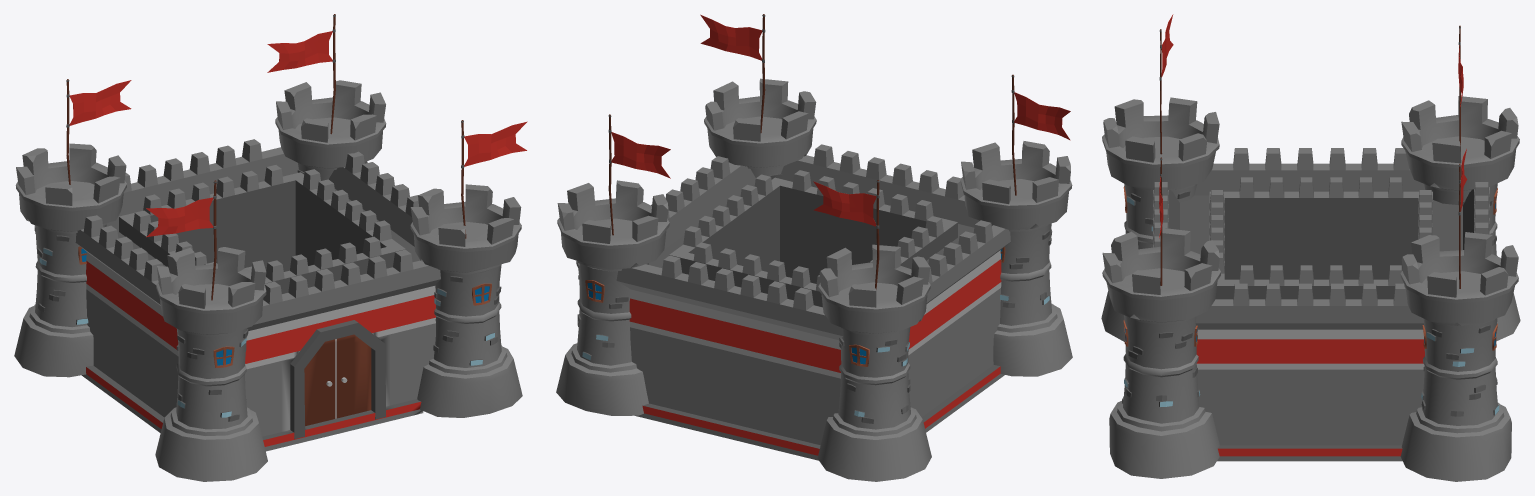
Rendered from Castle.fbx.
3 views of the same model, side by side, from view 1: azimuth 30°, elevation 25°; view 2: azimuth 150°, elevation 25°; view 3: azimuth 270°, elevation 25° (orthographic). The views are drawn at different scales.
Parts seen in each view (by area): view 1: Castle; view 2: Castle; view 3: Castle.
Boxes of the visible parts, <box> form: Castle: <box>14,14,527,481</box>; Castle: <box>556,14,1072,481</box>; Castle: <box>1101,14,1520,481</box>.
Size of the model in its own units: 761 by 545 by 693.
